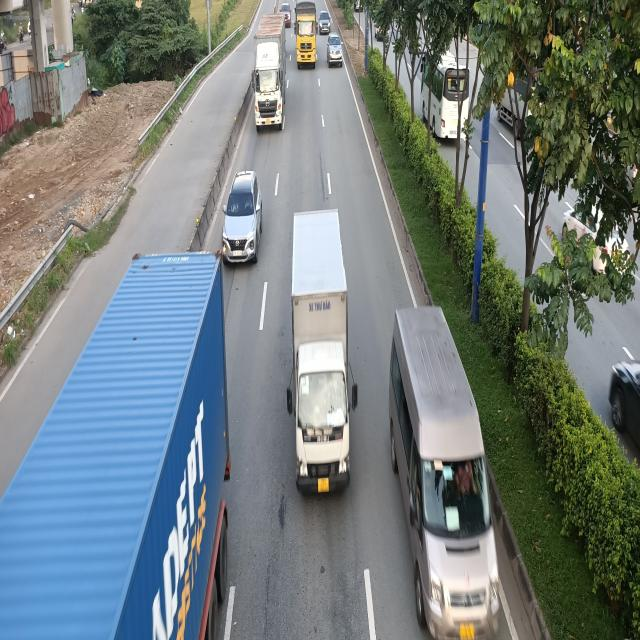car: (220, 170, 260, 265), (328, 34, 345, 68)
container: (0, 245, 232, 638)
truck: (284, 213, 356, 498), (252, 12, 287, 128), (293, 0, 317, 69)
van: (389, 312, 499, 640)
